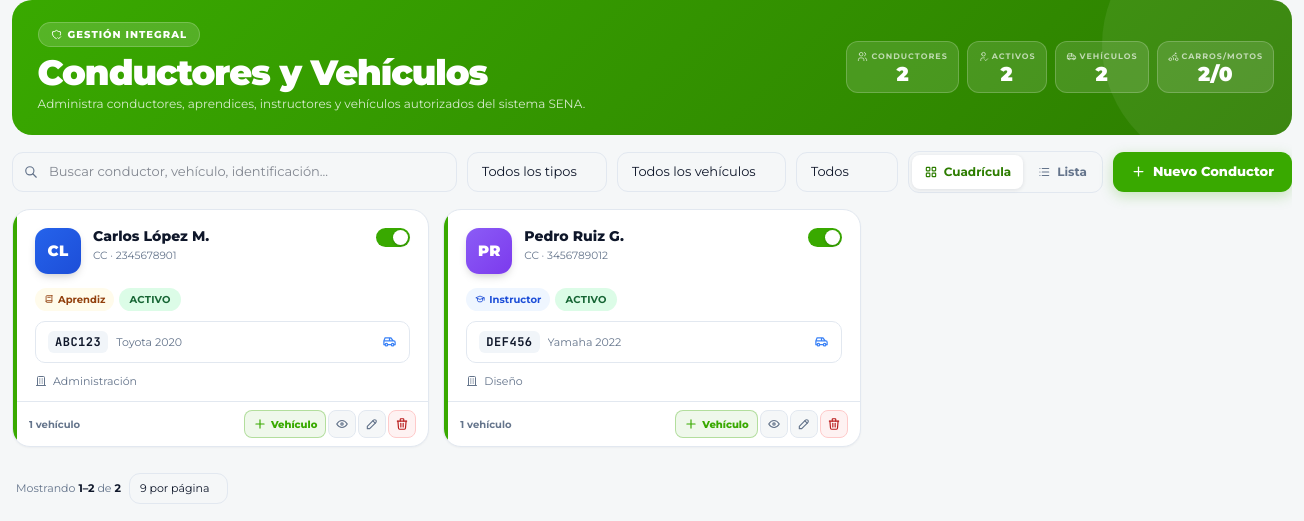
Test case: features/conductores › alterna entre vista de cuadrícula y de lista
Expected: the text "Carlos López M." is shown, [93, 227, 209, 245]
Note: En vista de lista aparecen los encabezados de columna del DataList.
Click the button "Lista": (1062, 172) [1025, 155, 1099, 189]
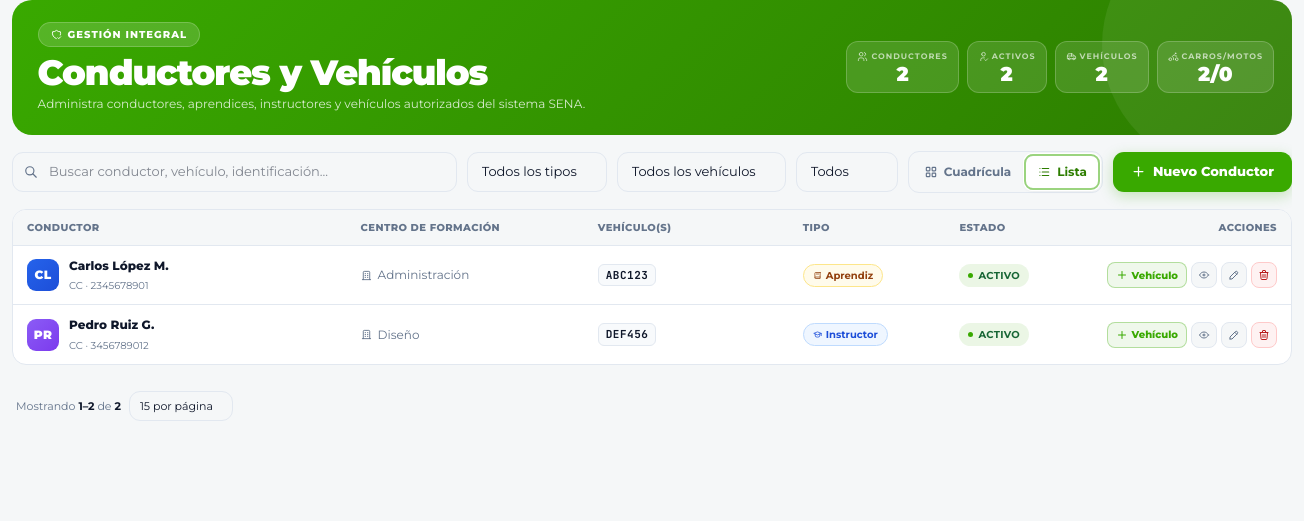
Result: the text "Centro de formación" is shown at [361, 221, 500, 234]
Result: the text "Vehículo(s)" is shown at [598, 221, 671, 234]
Click the button "Cuadrícula": (967, 172) [912, 155, 1023, 189]
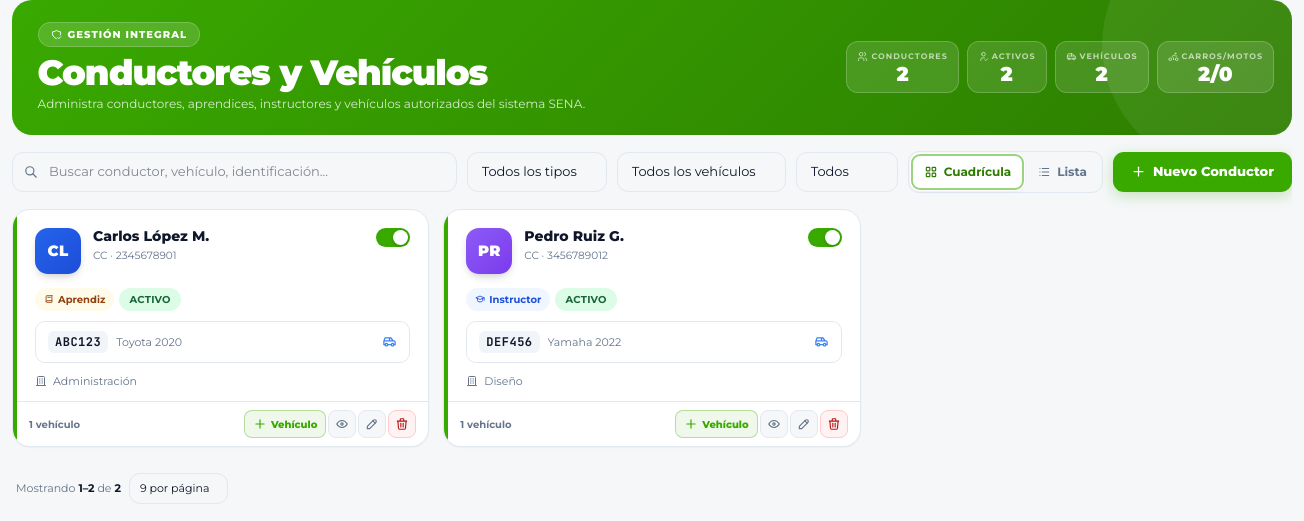
Result: the text "Centro de formación" is gone
